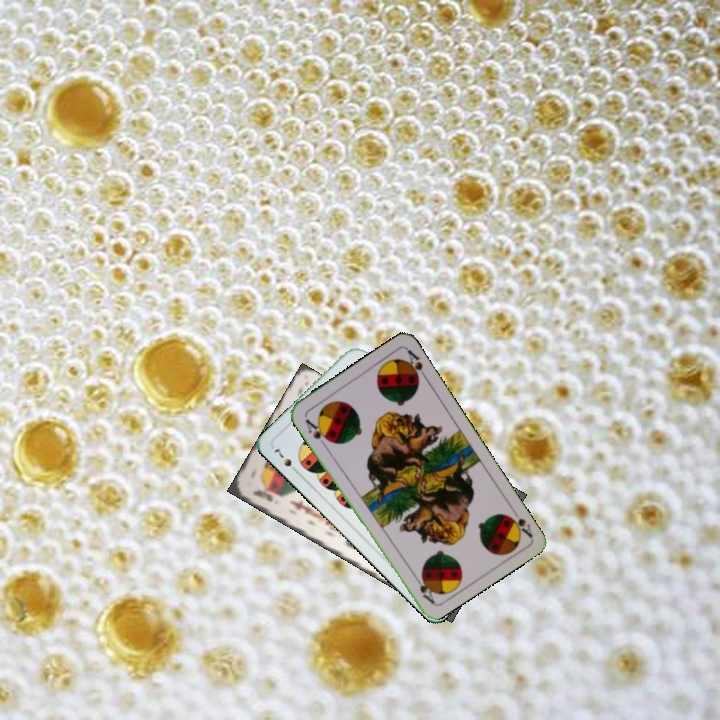S7: (270, 444, 301, 476)
SA: (501, 503, 535, 540), (301, 415, 333, 449)
SK: (248, 486, 275, 504)
